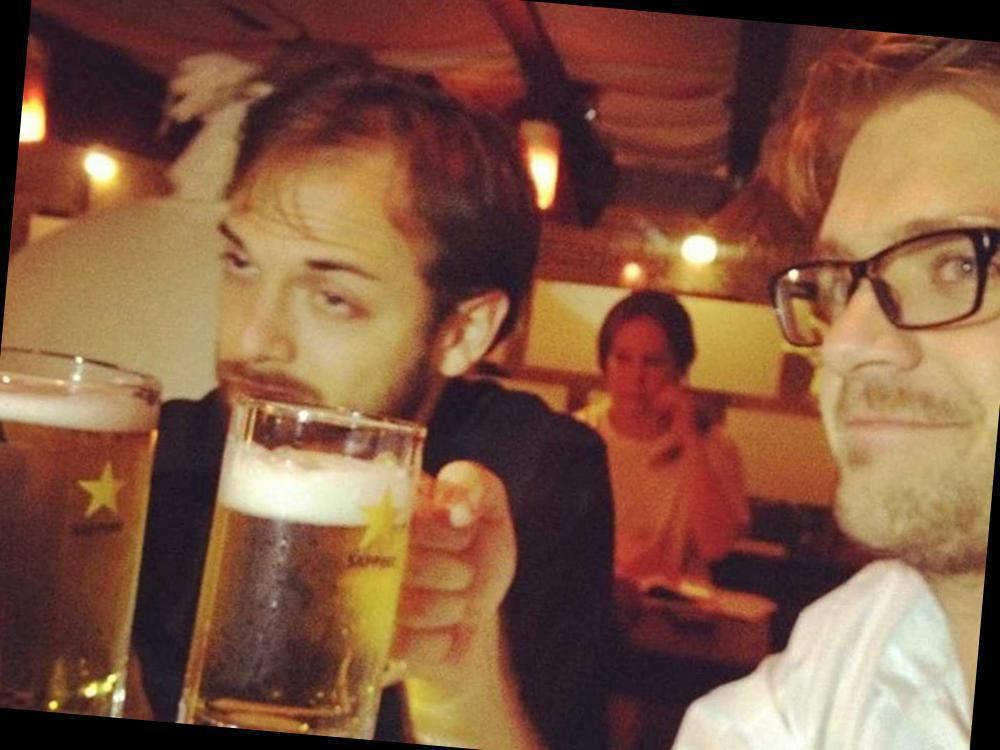Drunk: (217, 167, 416, 418)
